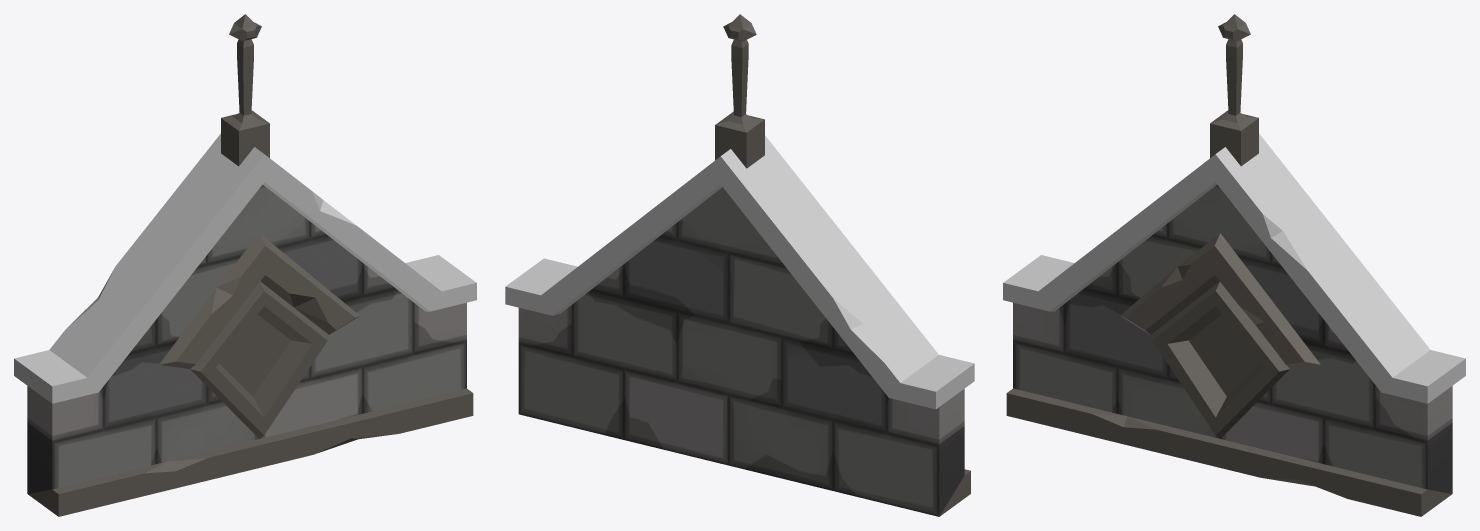
Rendered from SM_Bld_Roof_Window_Topper_01.fbx.
The picture shows the model from 3 angles, left to right: view 1: azimuth 30°, elevation 25°; view 2: azimuth 150°, elevation 25°; view 3: azimuth 330°, elevation 25°; orthographic projection.
Visible parts, largest first — view 1: SM_Bld_Roof_Window_Topper_01; view 2: SM_Bld_Roof_Window_Topper_01; view 3: SM_Bld_Roof_Window_Topper_01.
Boxes of the visible parts, x1,y1,x2,y2 form: SM_Bld_Roof_Window_Topper_01: (14, 14, 476, 516); SM_Bld_Roof_Window_Topper_01: (505, 14, 974, 516); SM_Bld_Roof_Window_Topper_01: (1003, 14, 1465, 516).
Size of the model in its own units: 256 by 252 by 41.36.
